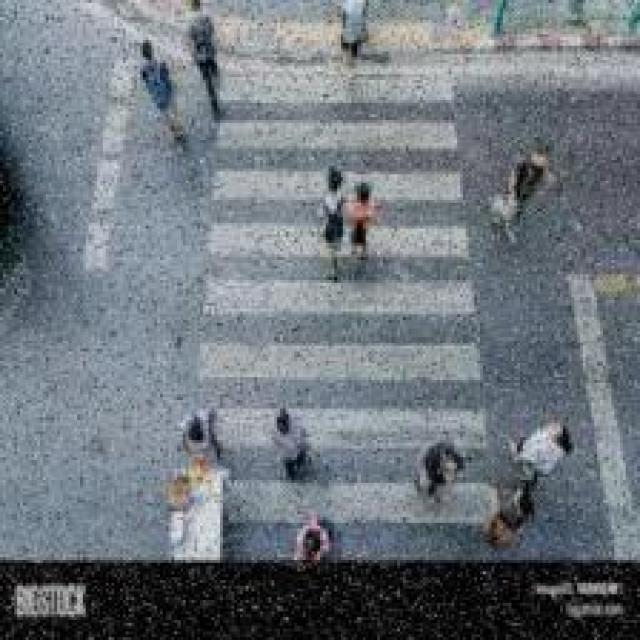walk-crossing: (186, 30, 520, 599)
